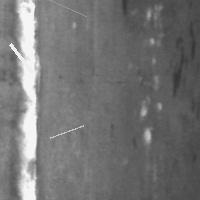scratches: (11, 1, 42, 199), (139, 7, 164, 143), (170, 16, 199, 109), (9, 0, 91, 21), (5, 39, 37, 77), (45, 121, 88, 143)
